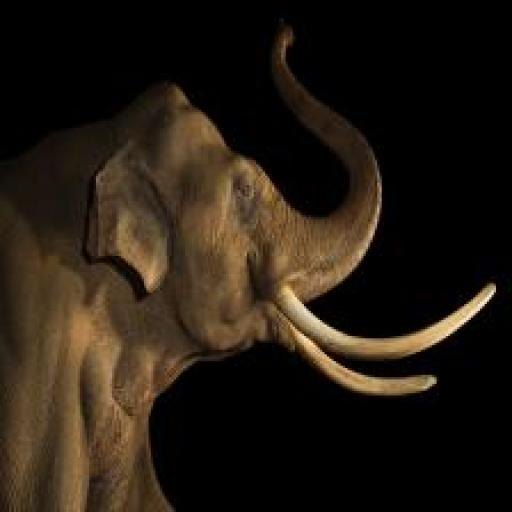Elephant: (0, 23, 495, 511)
